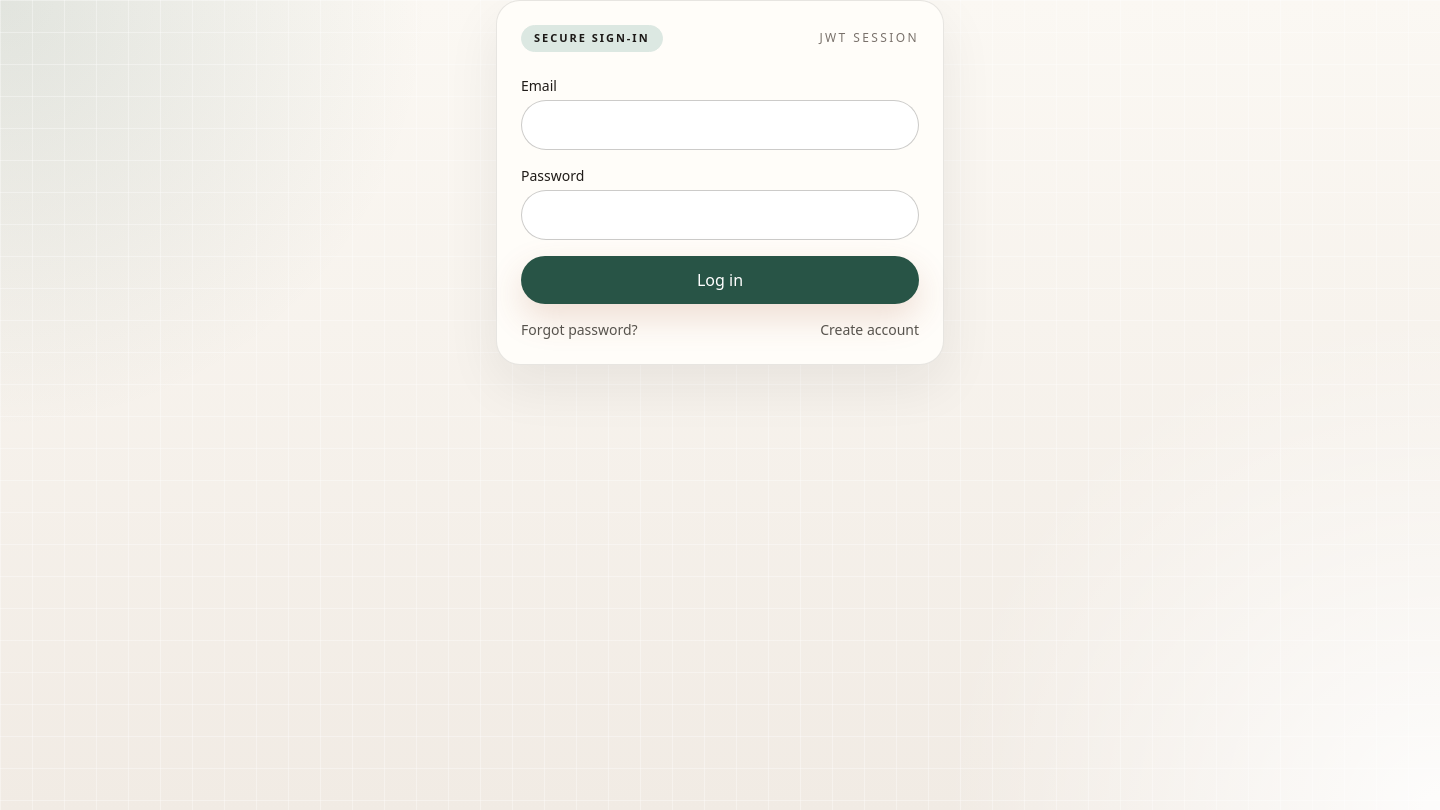
LoginForm › shows validation messages when submitted empty
Click the button "Log in" at (720, 280), box [521,256,919,304]
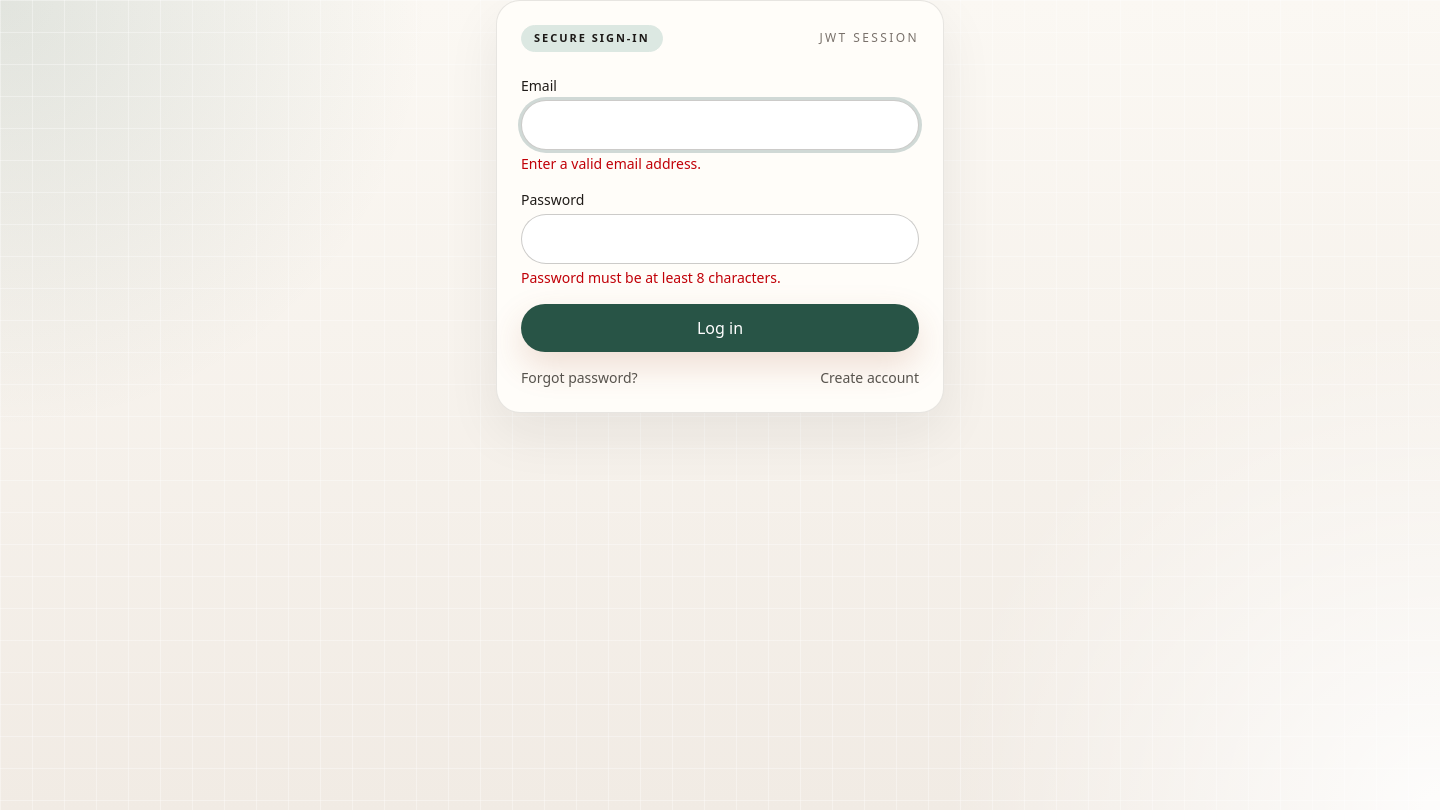
Expected: the text "Enter a valid email address." is shown, [521,154,701,172]
Expected: the text "Password must be at least 8 characters." is shown, [521,268,781,286]
